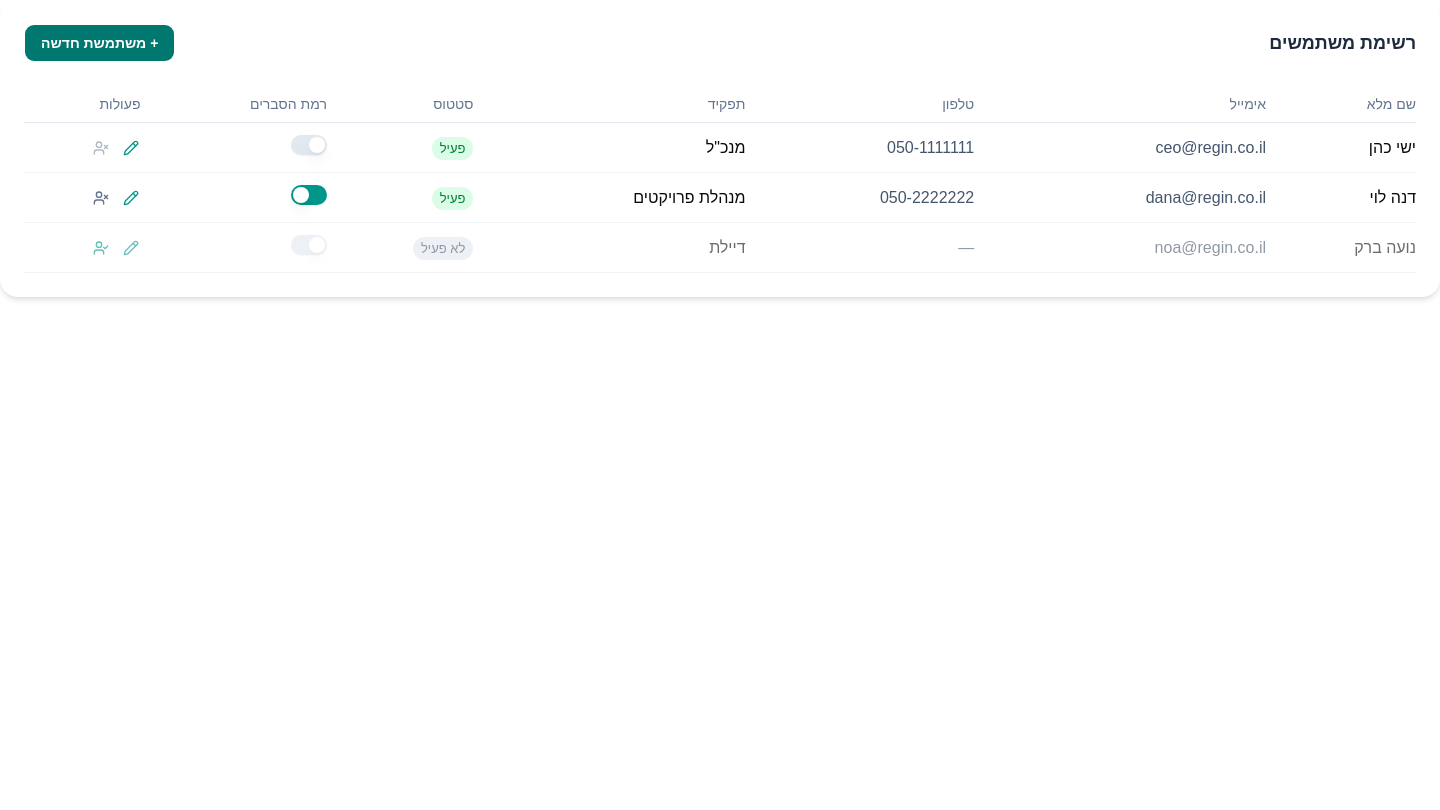
Scenario: UsersManagementPage — השבתת משתמש › {data: [], error: null} (חסימת RLS שקטה) מציג "השבתת המשתמש נכשלה — נסה שוב." ואינו מרענן
expect the text "ישי כהן" is shown: met, box [1266,122,1416,172]
Click the button titled "השבת משתמש". click: [101, 198]
box: [92,188,110,206]
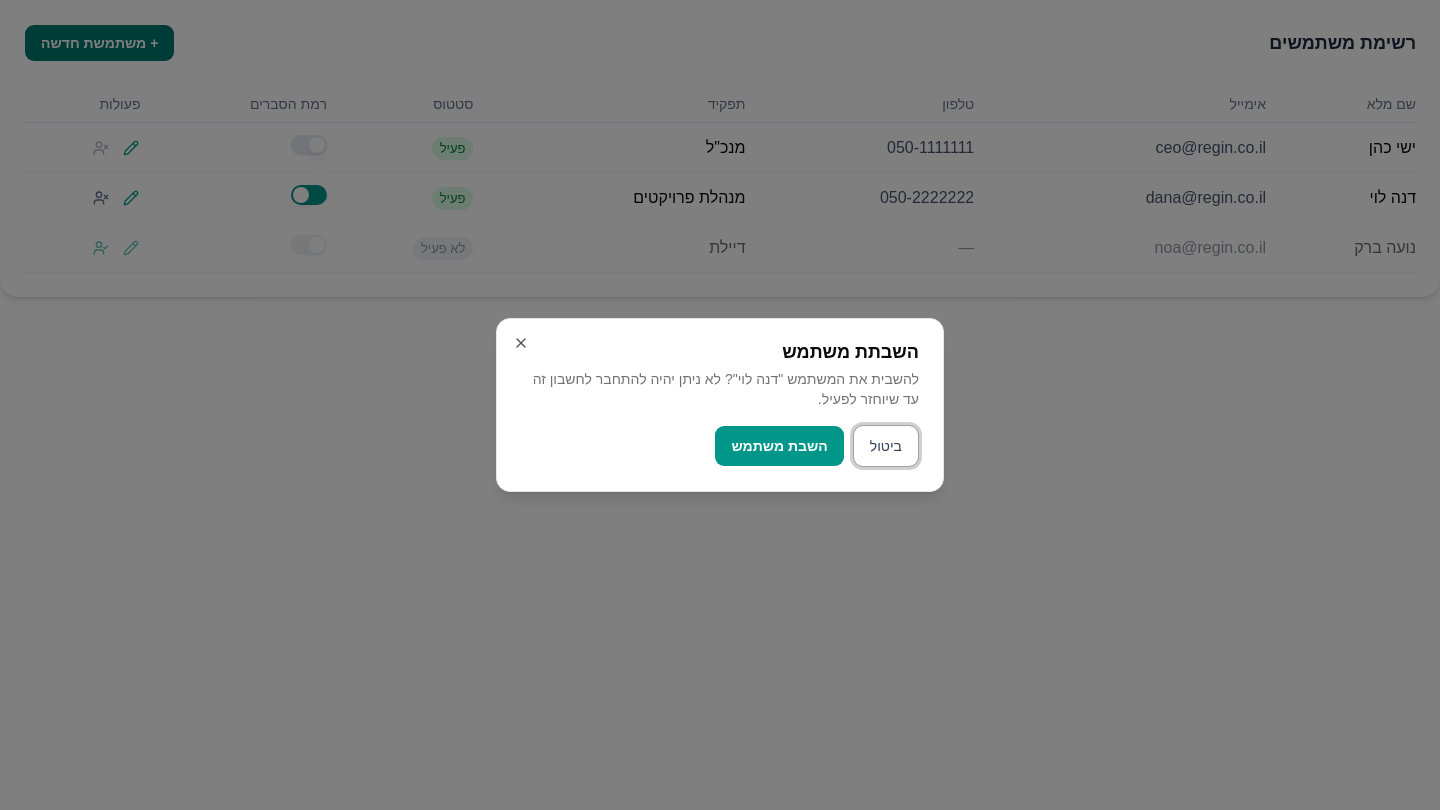
expect the heading "השבתת משתמש" is shown: met, box [782,342,919,362]
Click the button with test id "confirm-dialog-confirm". click: [780, 446]
box: [714,425,845,467]
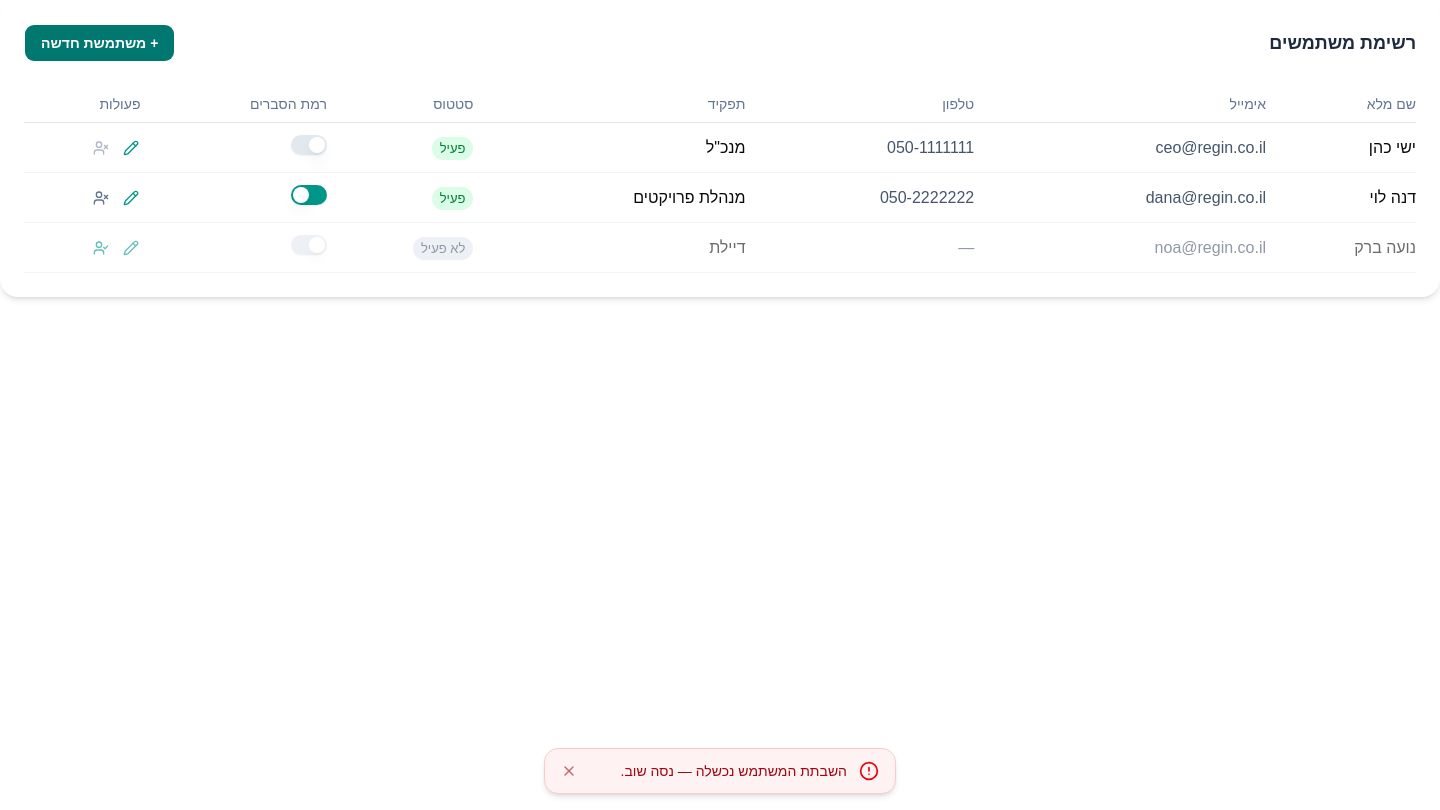
expect the message with test id "toast-error" reads "השבתת המשתמש נכשלה — נסה שוב.": met, box [620,763,847,779]
